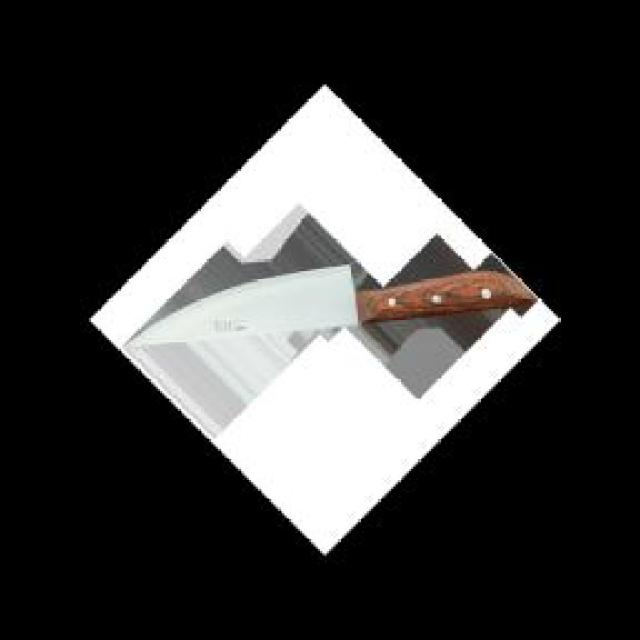knife: (120, 266, 542, 354)
